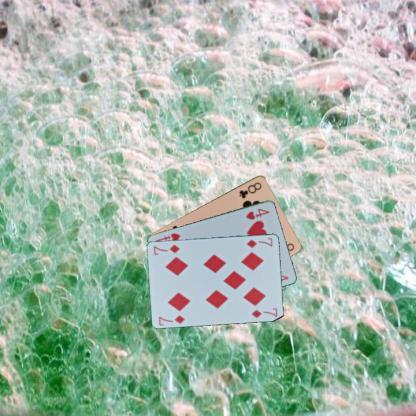4h: (244, 206, 271, 220)
7d: (244, 235, 274, 249), (156, 312, 186, 326)
8c: (236, 179, 263, 199)
